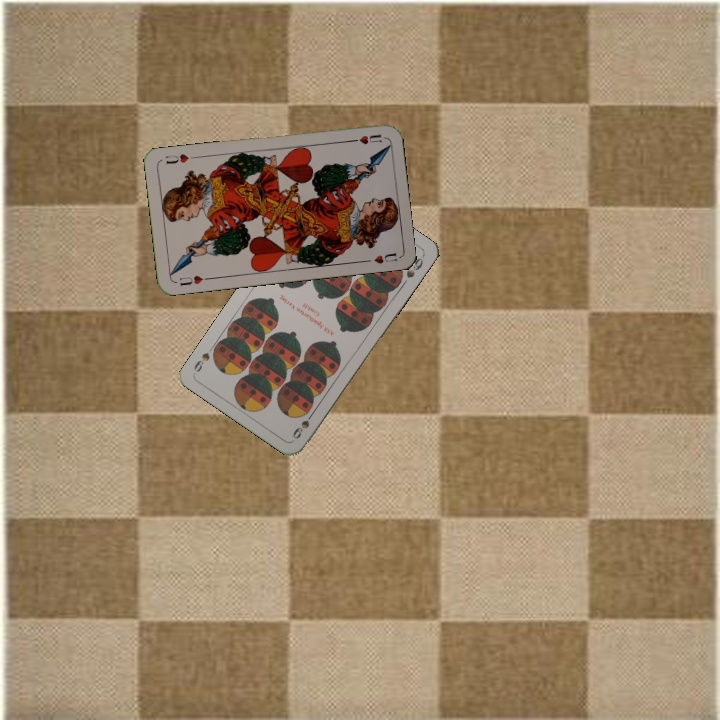HU: (175, 271, 212, 288), (346, 130, 384, 146)
S9: (288, 406, 317, 442)
